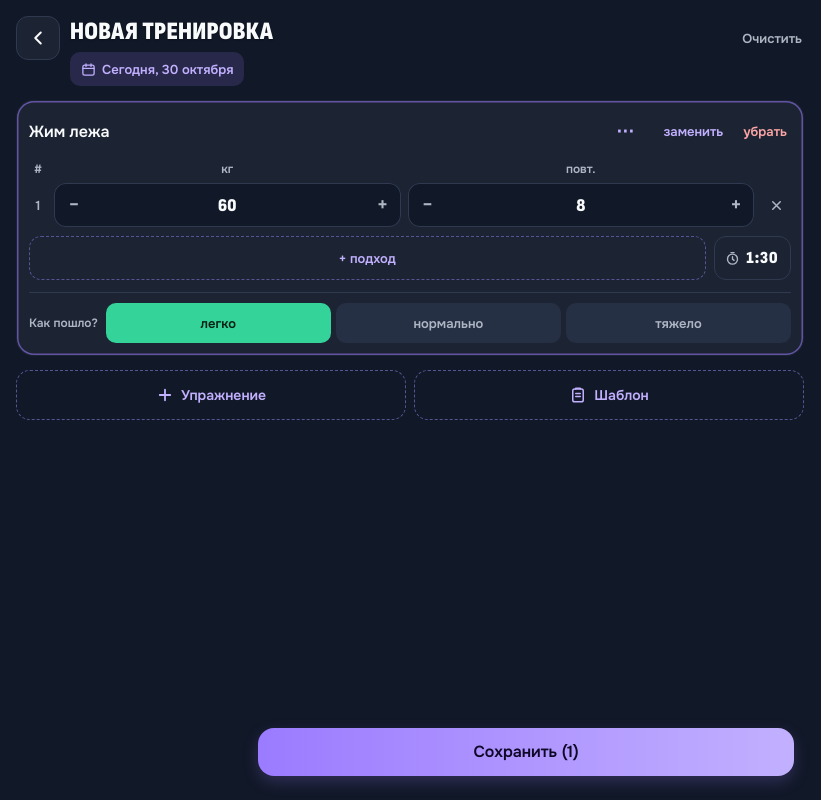
Test case: очистка черновика › «Очистить» → подтверждение → пустой композер, черновик и оценки стерты, экран остается
Click the button "Очистить".
click(772, 38)  # box x1=740 y1=16 x2=804 y2=60
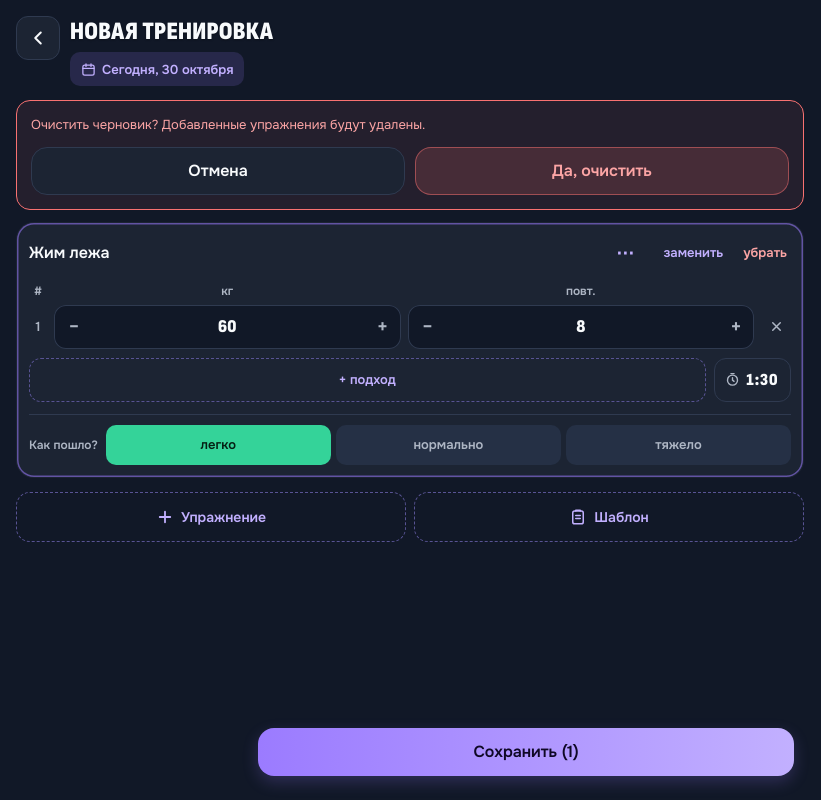
expect the text "Очистить черновик? Добавленные упражнения будут удалены." is shown: met, box x1=31 y1=116 x2=425 y2=133
Click the button "Отмена".
click(218, 170)  # box x1=31 y1=146 x2=405 y2=194
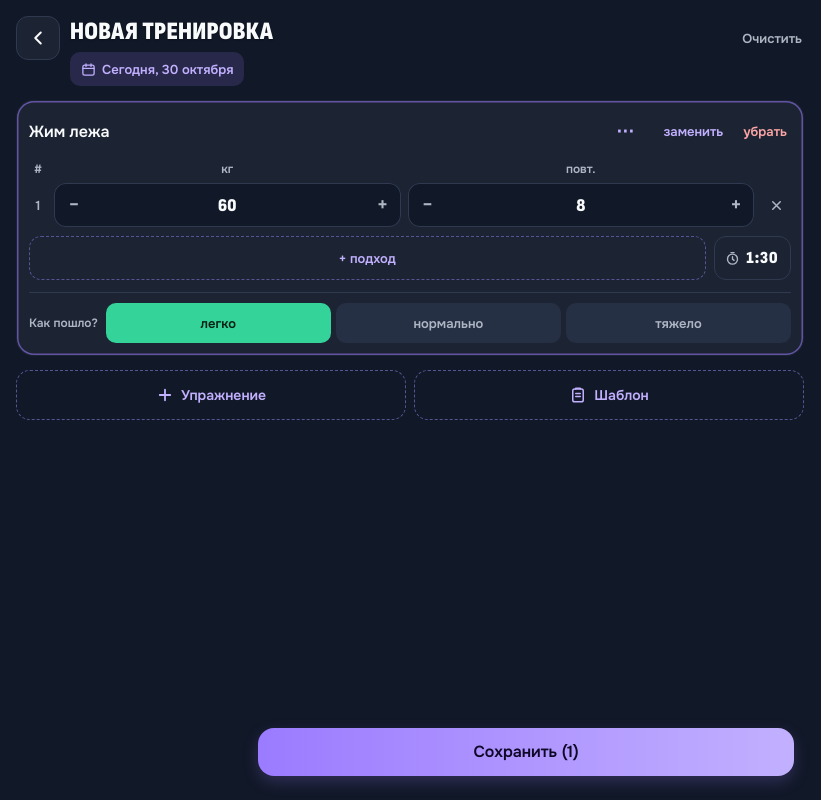
expect the text "Жим лежа" is shown: met, box x1=29 y1=120 x2=109 y2=142
Click the button "Очистить".
click(772, 38)  # box x1=740 y1=16 x2=804 y2=60
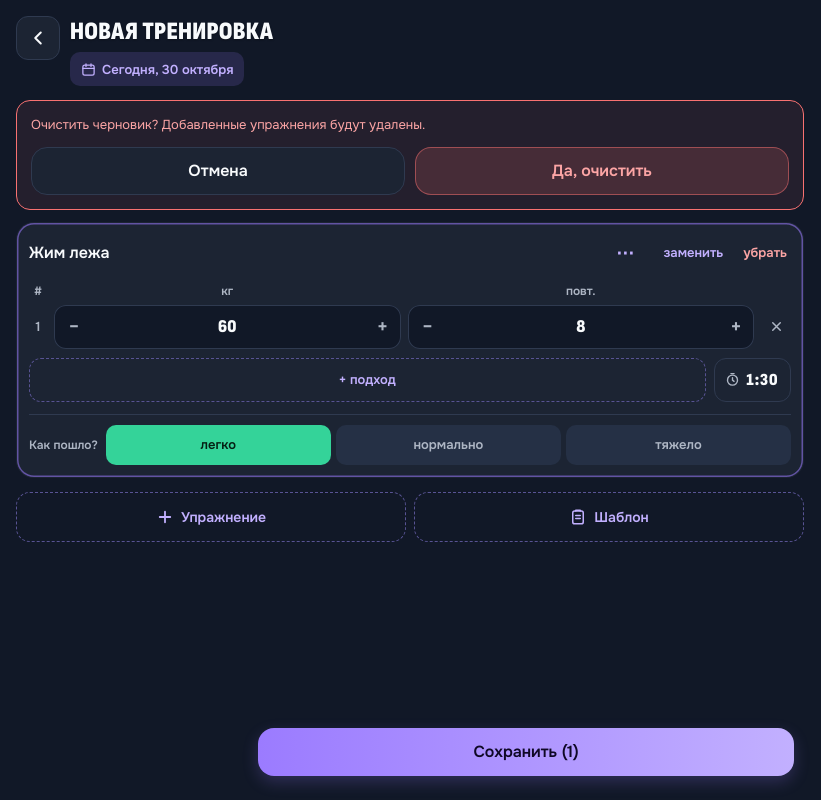
Click the button "Да, очистить".
click(602, 170)  # box x1=415 y1=146 x2=789 y2=194
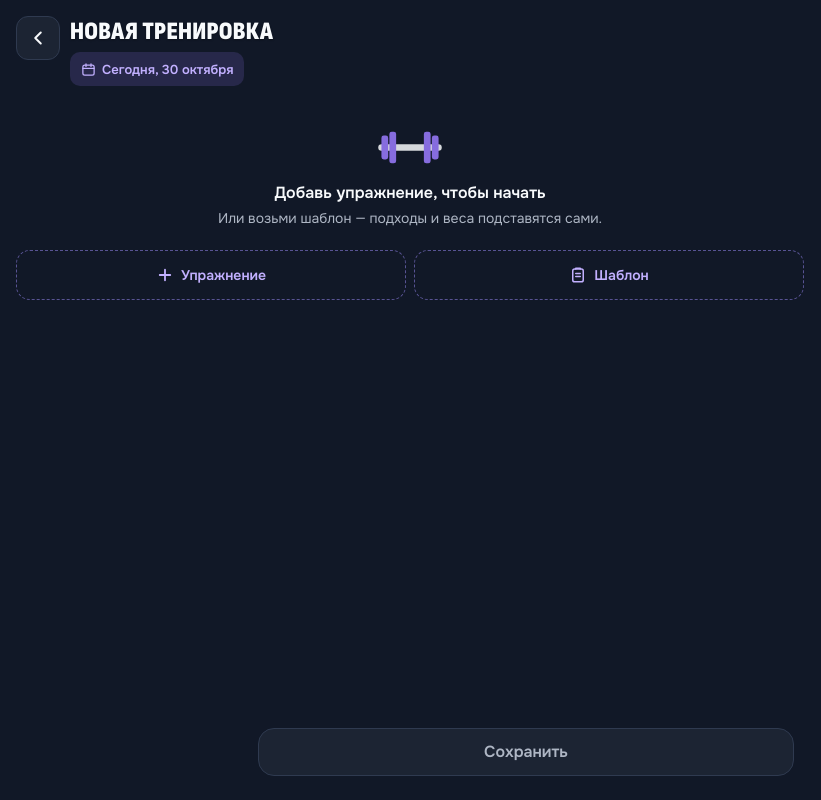
expect the text "Жим лежа" is gone: met
expect the text "Добавь упражнение, чтобы начать" is shown: met, box x1=274 y1=182 x2=546 y2=203
